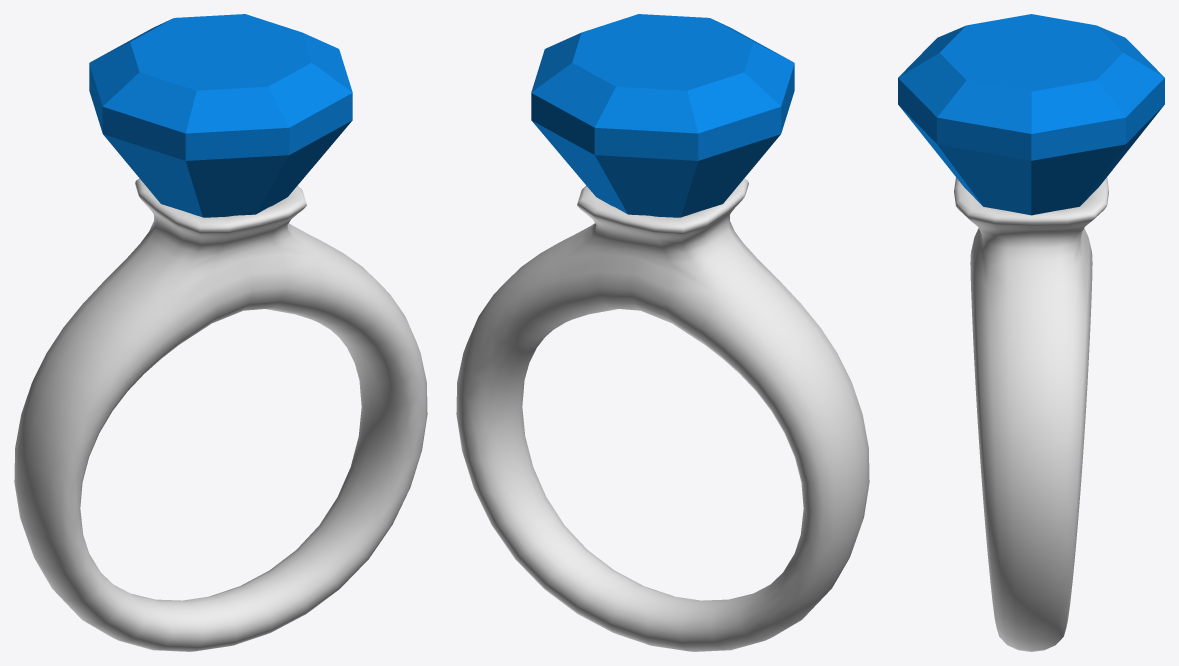
File: ring .fbx
3 views of the same model, side by side, from view 1: azimuth 30°, elevation 25°; view 2: azimuth 150°, elevation 25°; view 3: azimuth 270°, elevation 25° (orthographic). The views are drawn at different scales.
Visible parts, largest first — view 1: Cube.004; view 2: Cube.004; view 3: Cube.004.
Part boxes in pixels (x1,y1,x2,y2): Cube.004: (14,14,427,651); Cube.004: (456,14,869,651); Cube.004: (898,14,1164,651).
Size of the model in its own units: 49.11 by 70.73 by 29.61.
